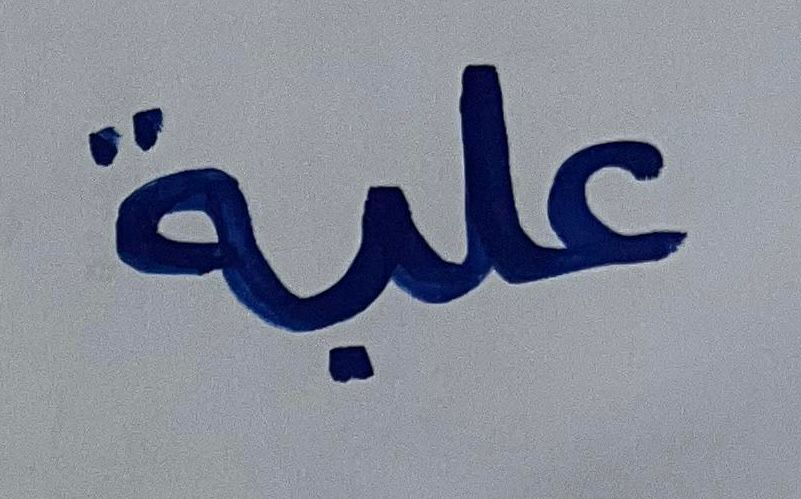beh: (531, 108, 725, 316), (269, 158, 416, 415)
lam: (420, 23, 527, 330)
teh_marbota: (68, 72, 266, 359)
